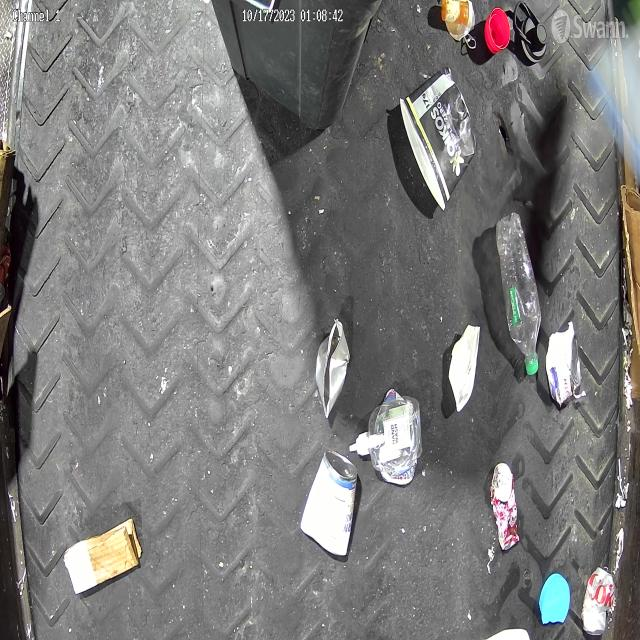can: (299, 448, 359, 557), (315, 318, 350, 418), (490, 462, 521, 552), (582, 564, 619, 636), (546, 328, 580, 404)
plastic_bottle: (496, 212, 541, 375)
